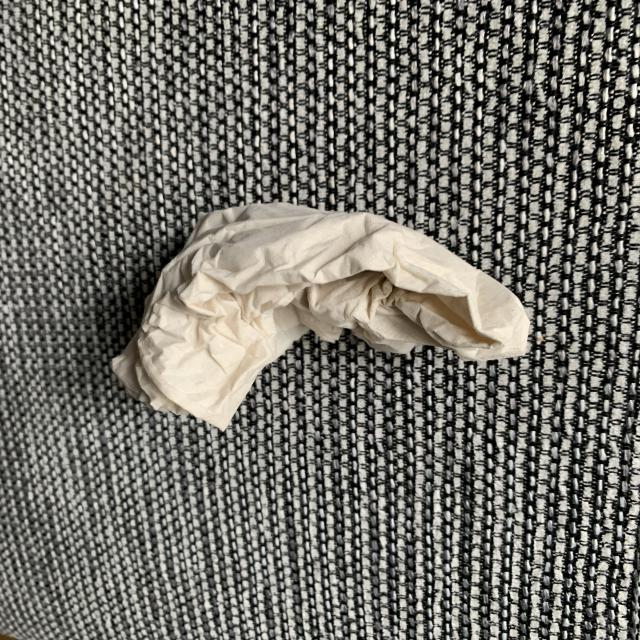kitchen paper: (106, 202, 527, 432)
